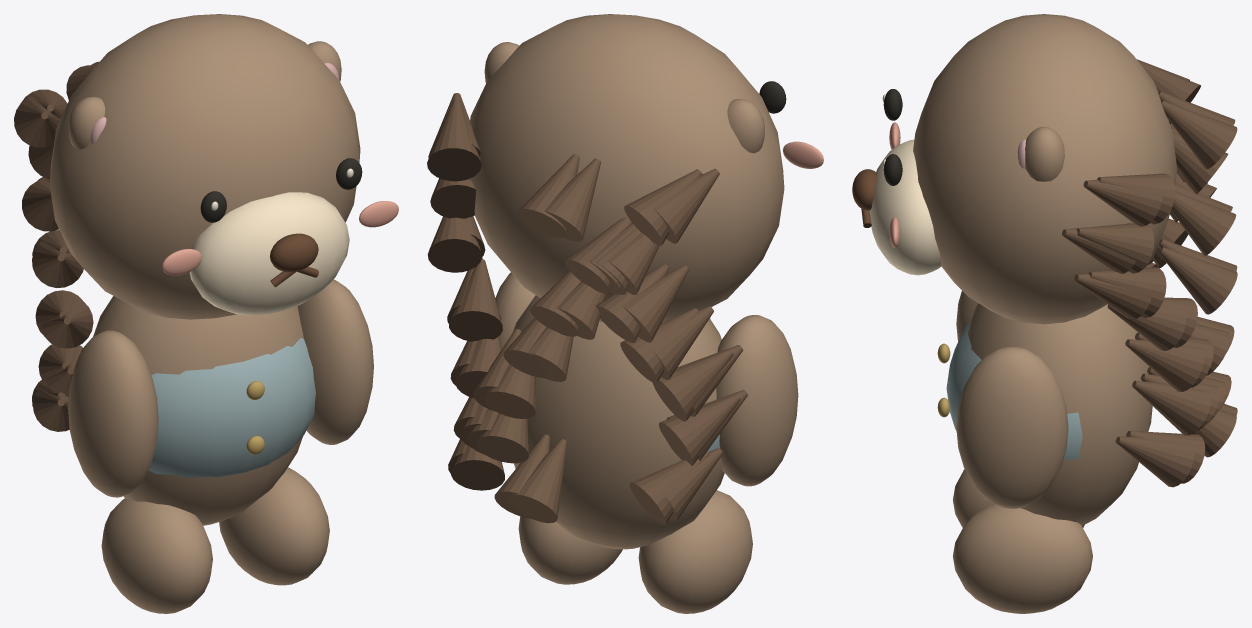
The model's file is hedgehog.glb.
The picture shows the model from 3 angles, left to right: view 1: azimuth 30°, elevation 25°; view 2: azimuth 150°, elevation 25°; view 3: azimuth 270°, elevation 25°; orthographic projection. The views are drawn at different scales.
Visible parts, largest first — view 1: Head.006, Soft waistcoat.007, Body.007, Muzzle.006, arm_L.007, foot_L.007, arm_R.007, foot_R.007, Soft spine.002, Soft spine.041, Soft spine.010, Nose.006 (+13 smaller); view 2: Head.006, Body.007, arm_L.007, foot_L.007, foot_R.007, Soft spine.027, Soft spine, Soft spine.003, Soft spine.015, Soft spine.023, Soft spine.013, Soft spine.011 (+30 smaller); view 3: Head.006, Body.007, arm_R.007, foot_R.007, Muzzle.006, Soft spine.017, Soft spine.034, Soft spine.001, Soft spine.014, Soft spine.037, Soft spine.004, Soft waistcoat.007 (+22 smaller).
Part boxes in pixels (bbox=[...]): Head.006: bbox=[49, 14, 360, 319]; Soft waistcoat.007: bbox=[149, 338, 315, 477]; Body.007: bbox=[93, 296, 303, 525]; Muzzle.006: bbox=[189, 192, 349, 315]; arm_L.007: bbox=[68, 330, 158, 497]; foot_L.007: bbox=[101, 498, 212, 613]; arm_R.007: bbox=[297, 279, 373, 444]; foot_R.007: bbox=[219, 467, 329, 585]; Soft spine.002: bbox=[40, 296, 93, 348]; Soft spine.041: bbox=[14, 96, 60, 147]; Soft spine.010: bbox=[32, 241, 83, 287]; Nose.006: bbox=[270, 233, 318, 272]; Head.006: bbox=[470, 14, 784, 322]; Body.007: bbox=[513, 295, 724, 549]; arm_L.007: bbox=[716, 315, 798, 486]; foot_L.007: bbox=[638, 490, 752, 613]; foot_R.007: bbox=[518, 516, 622, 584]; Soft spine.027: bbox=[427, 99, 481, 181]; Soft spine: bbox=[507, 438, 567, 523]; Soft spine.003: bbox=[449, 259, 502, 341]; Soft spine.015: bbox=[659, 394, 740, 465]; Soft spine.023: bbox=[653, 349, 733, 421]; Soft spine.013: bbox=[544, 158, 600, 241]; Soft spine.011: bbox=[427, 216, 482, 272]; Head.006: bbox=[913, 14, 1177, 324]; Body.007: bbox=[967, 303, 1152, 525]; arm_R.007: bbox=[956, 346, 1068, 508]; foot_R.007: bbox=[953, 503, 1092, 613]; Muzzle.006: bbox=[869, 139, 941, 275]; Soft spine.017: bbox=[1159, 247, 1237, 314]; Soft spine.034: bbox=[1161, 100, 1237, 169]; Soft spine.001: bbox=[1132, 380, 1210, 435]; Soft spine.014: bbox=[1115, 436, 1194, 487]; Soft spine.037: bbox=[1125, 339, 1204, 391]; Soft spine.004: bbox=[1171, 191, 1236, 255]; Soft waistcoat.007: bbox=[946, 321, 1082, 459].
Bounding box in the file's own units: 0.9525 × 1.74 × 1.1.
